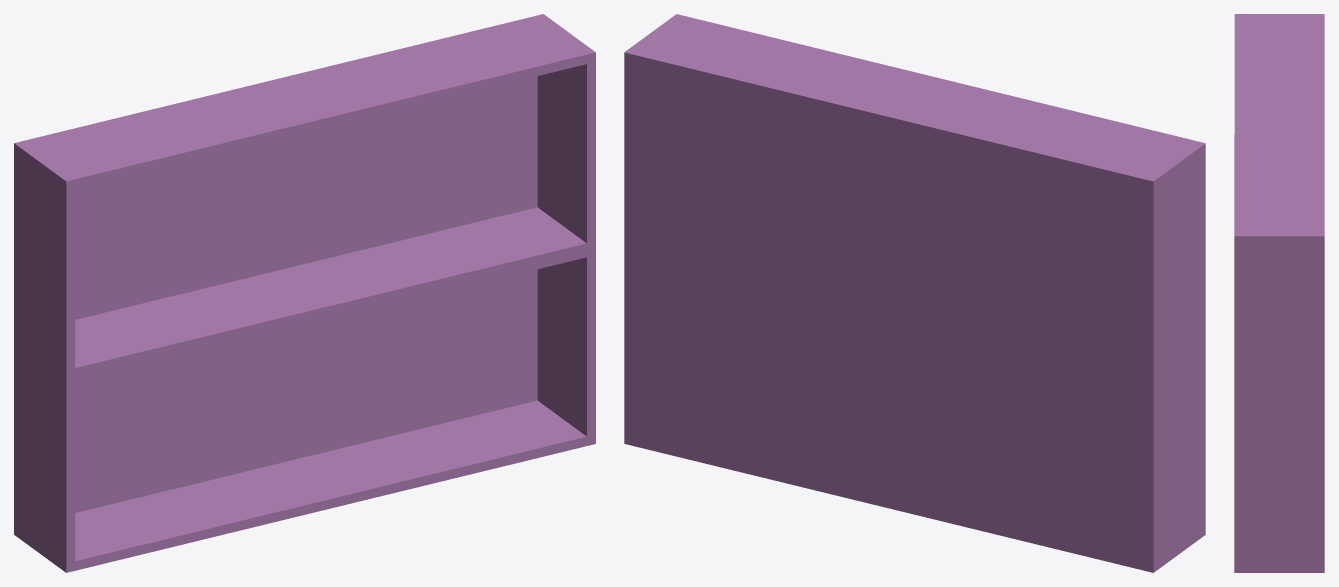
File: SalleDeBainMeubleVitre.fbx
The picture shows the model from 3 angles, left to right: view 1: azimuth 30°, elevation 25°; view 2: azimuth 150°, elevation 25°; view 3: azimuth 270°, elevation 25°; orthographic projection. The views are drawn at different scales.
Parts seen in each view (by area): view 1: SalleDeBainMeubleVitre; view 2: SalleDeBainMeubleVitre; view 3: SalleDeBainMeubleVitre.
Part boxes in pixels (x1,y1,x2,y2): SalleDeBainMeubleVitre: (14, 14, 595, 572); SalleDeBainMeubleVitre: (624, 14, 1205, 572); SalleDeBainMeubleVitre: (1234, 14, 1324, 572).
Bounding box in the file's own units: 84.92 × 60 × 14.58.
